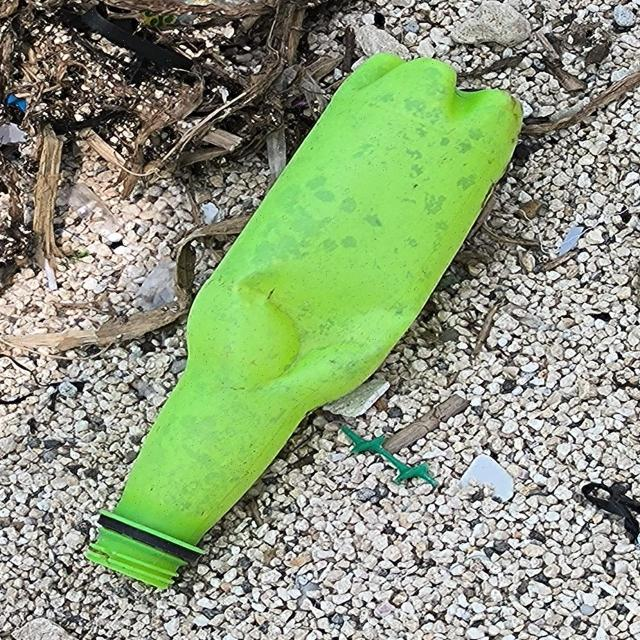plastic_waste: (81, 51, 527, 593)
